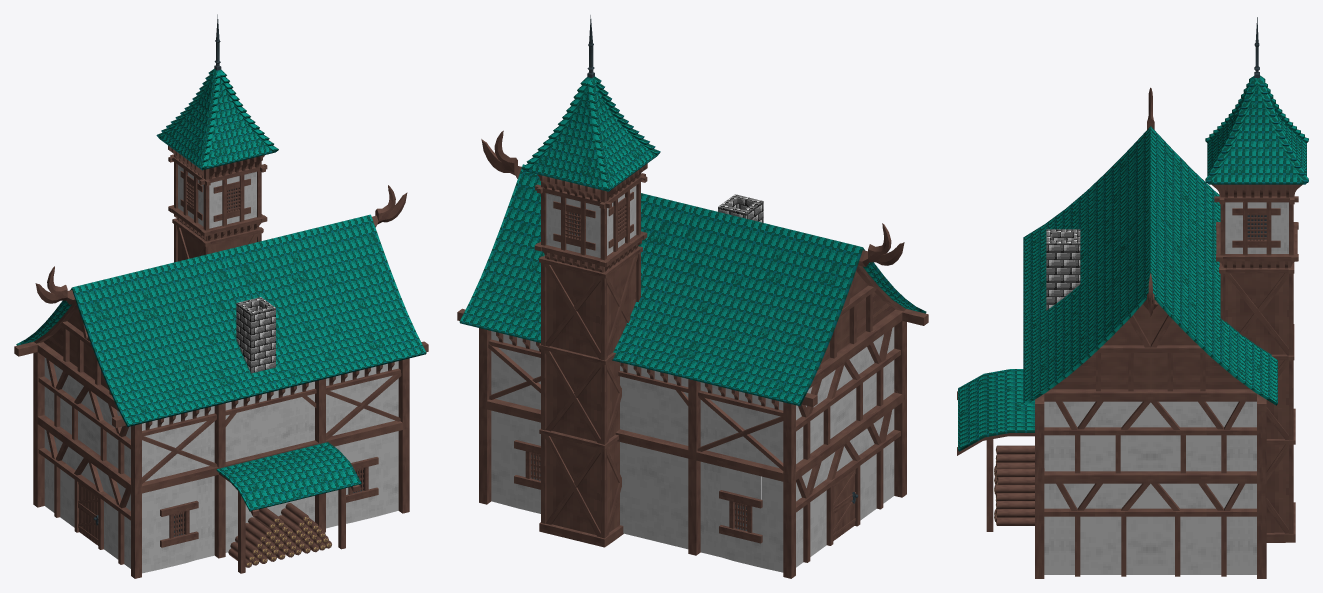
Rendered from maison8.glb.
3 views of the same model, side by side, from view 1: azimuth 30°, elevation 25°; view 2: azimuth 150°, elevation 25°; view 3: azimuth 270°, elevation 25° (orthographic). The views are drawn at different scales.
Parts seen in each view (by area): view 1: Mid1; view 2: Mid1; view 3: Mid1.
Boxes of the visible parts, x1,y1,x2,y2 form: Mid1: (14,14,428,578); Mid1: (457,15,928,578); Mid1: (957,17,1308,578).
Size of the model in its own units: 6.67 by 7.72 by 4.79.
Materials: 1 (1 with a texture image).
